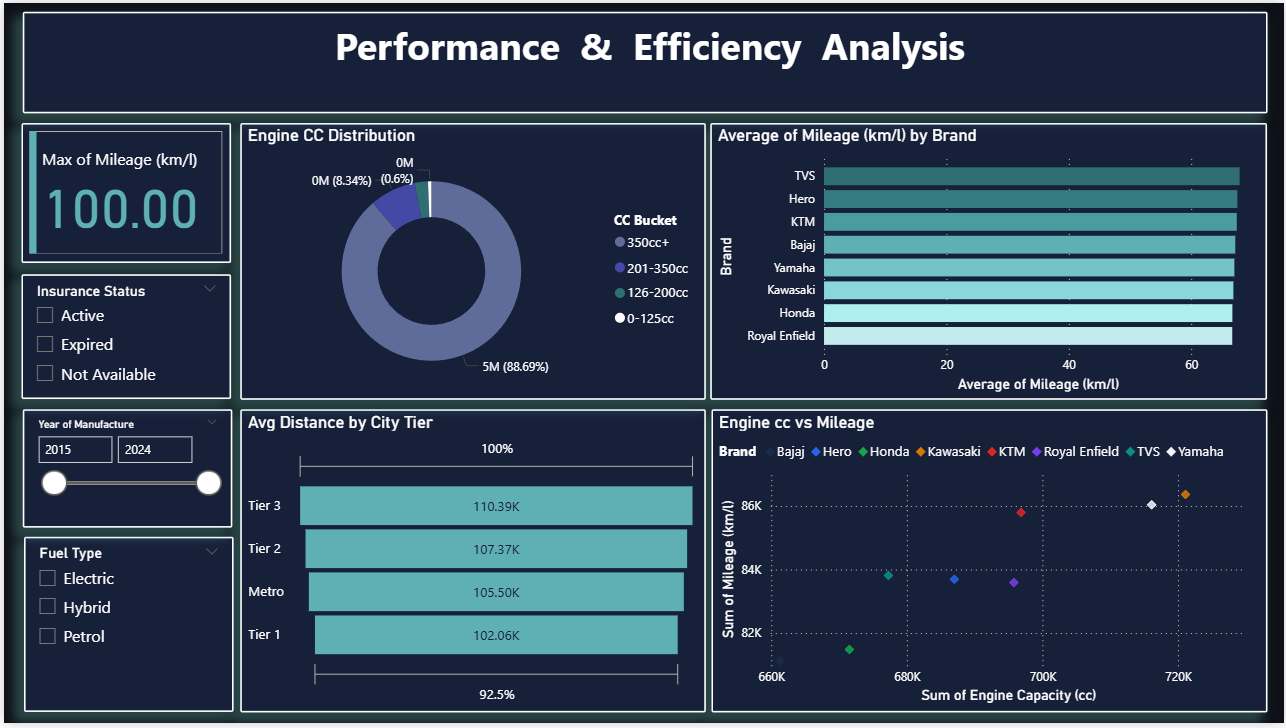

The dashboard page shown, as its layout file describes it:
{"tool":"powerbi","page":{"name":"Page 3","canvas":[1280,720],"ordinal":2},"visuals":[{"type":"clusteredBarChart","fields":{"Category":["cleaned_bike_sales.Brand"],"Y":["Avg(cleaned_bike_sales.Mileage (km/l))"]},"box":[706.7,119.4,557.1,277.2],"z":0},{"type":"scatterChart","title":" Engine cc vs Mileage ","fields":{"X":["Sum(cleaned_bike_sales.Engine Capacity (cc))"],"Y":["Sum(cleaned_bike_sales.Mileage (km/l))"],"Series":["cleaned_bike_sales.Brand"]},"box":[707,406.8,556.2,302.8],"z":1000},{"type":"funnel","title":"Avg Distance by City Tier","fields":{"Category":["cleaned_bike_sales.City Tier"],"Y":["Sum(cleaned_bike_sales.Avg Daily Distance (km))"]},"box":[236.5,406.8,465.3,302.8],"z":2000},{"type":"donutChart","title":"Engine CC Distribution","fields":{"Category":["cleaned_bike_sales.CC Bucket"],"Y":["Sum(cleaned_bike_sales.Engine Capacity (cc))"]},"box":[236.5,119.6,465.3,276.8],"z":3000},{"type":"cardVisual","fields":{"Data":["Max(cleaned_bike_sales.Mileage (km/l))"]},"box":[17.8,119.4,209.9,140],"z":4000},{"type":"slicer","fields":{"Values":["cleaned_bike_sales.Fuel Type"]},"box":[19.5,534.2,209.2,175.5],"z":5000},{"type":"slicer","fields":{"Values":["cleaned_bike_sales.Year of Manufacture"]},"box":[18.2,406.8,209.2,118.3],"z":6000},{"type":"slicer","fields":{"Values":["cleaned_bike_sales.Insurance Status"]},"box":[17.8,271.7,209.9,124.9],"z":7000},{"type":"textbox","box":[18.2,9.1,1245.1,101.4],"z":8000}]}

Visuals, with their boxes in screenshot pixels (x1, y1, x2, y2), scaled from the page's 1280x720 canvas onto the 1286x728 screenshot:
clusteredBarChart - cleaned_bike_sales.Brand x Avg(cleaned_bike_sales.Mileage (km/l)): [x1=710, y1=121, x2=1270, y2=401]
" Engine cc vs Mileage " scatterChart: [x1=710, y1=411, x2=1269, y2=717]
"Avg Distance by City Tier" funnel: [x1=238, y1=411, x2=705, y2=717]
"Engine CC Distribution" donutChart: [x1=238, y1=121, x2=705, y2=401]
cardVisual - Max(cleaned_bike_sales.Mileage (km/l)): [x1=18, y1=121, x2=229, y2=262]
slicer - cleaned_bike_sales.Fuel Type: [x1=20, y1=540, x2=230, y2=718]
slicer - cleaned_bike_sales.Year of Manufacture: [x1=18, y1=411, x2=228, y2=531]
slicer - cleaned_bike_sales.Insurance Status: [x1=18, y1=275, x2=229, y2=401]
textbox: [x1=18, y1=9, x2=1269, y2=112]
